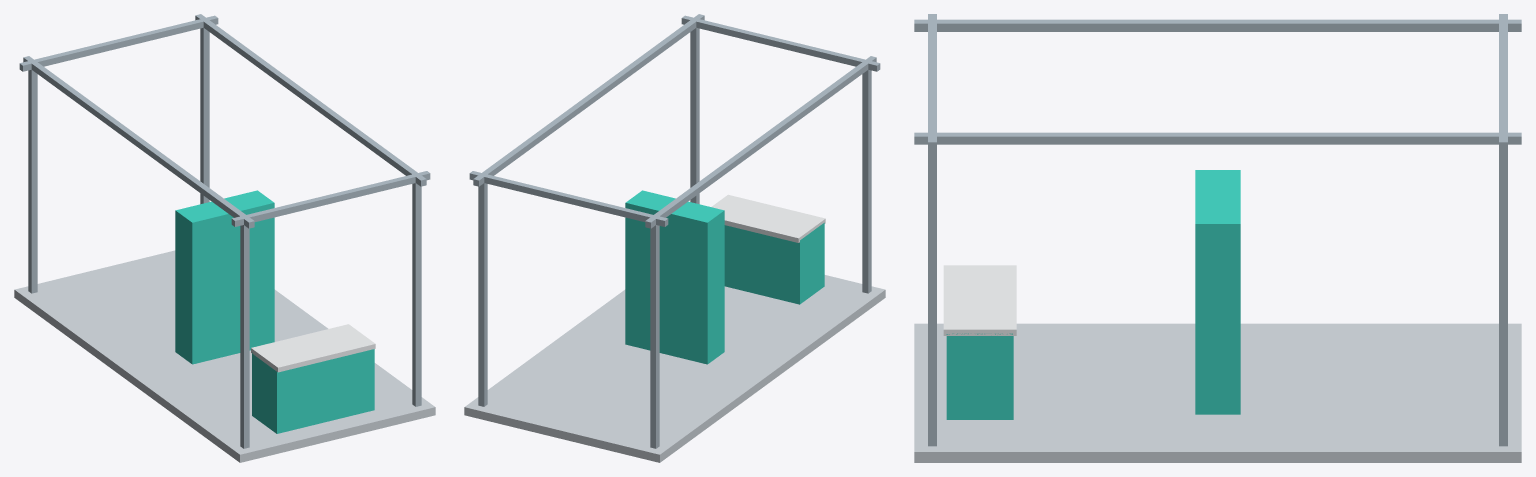
The picture shows the model from 3 angles, left to right: view 1: azimuth 30°, elevation 25°; view 2: azimuth 150°, elevation 25°; view 3: azimuth 270°, elevation 25°; orthographic projection. The views are drawn at different scales.
Parts seen in each view (by area): view 1: Exhibition Booth Concept; view 2: Exhibition Booth Concept; view 3: Exhibition Booth Concept.
Part boxes in pixels (bbox=[...]): Exhibition Booth Concept: bbox=[14, 14, 435, 462]; Exhibition Booth Concept: bbox=[464, 14, 885, 462]; Exhibition Booth Concept: bbox=[914, 14, 1521, 462].
Bounding box in the file's own units: 3 × 3.49 × 6.
